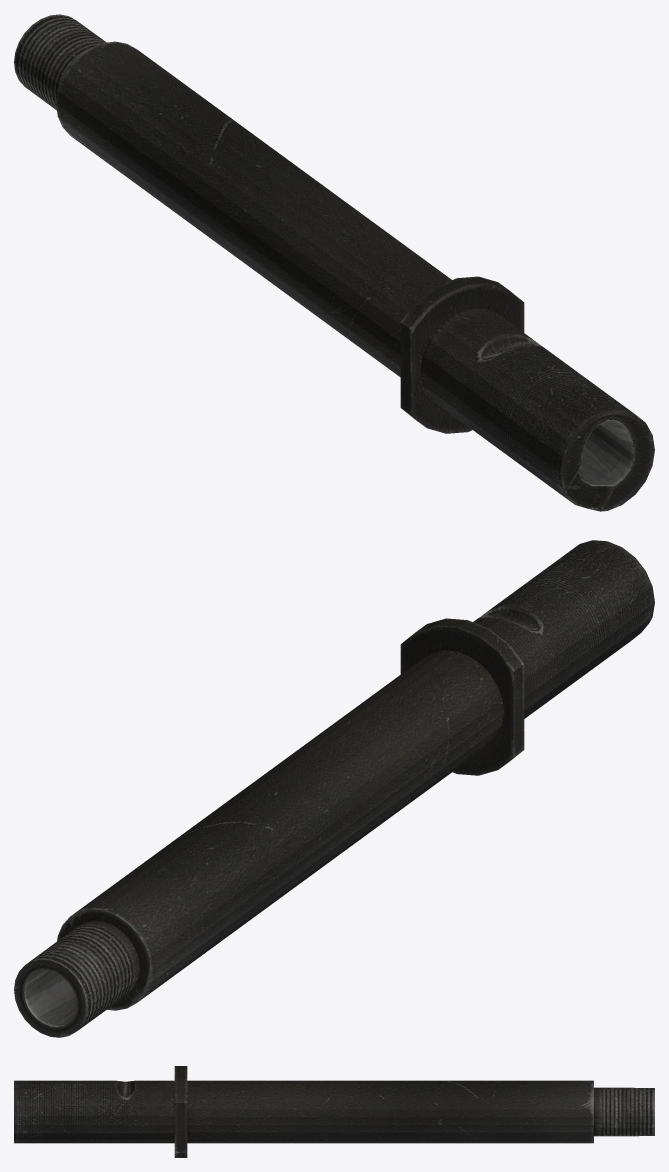
3 views of the same model, one above another, from view 1: azimuth 30°, elevation 25°; view 2: azimuth 150°, elevation 25°; view 3: azimuth 270°, elevation 25° (orthographic). The views are drawn at different scales.
Visible parts, largest first — view 1: TW_5fbbc383d5cb881a7363194a_PZ_Import; view 2: TW_5fbbc383d5cb881a7363194a_PZ_Import; view 3: TW_5fbbc383d5cb881a7363194a_PZ_Import.
Boxes of the visible parts, box(x1,y1,x2,y2) form: TW_5fbbc383d5cb881a7363194a_PZ_Import: box(14, 14, 654, 511); TW_5fbbc383d5cb881a7363194a_PZ_Import: box(14, 540, 654, 1037); TW_5fbbc383d5cb881a7363194a_PZ_Import: box(14, 1066, 654, 1157).
Size of the model in its own units: 0.0111 by 0.0951 by 0.0138.
1 material, 1 textured.
